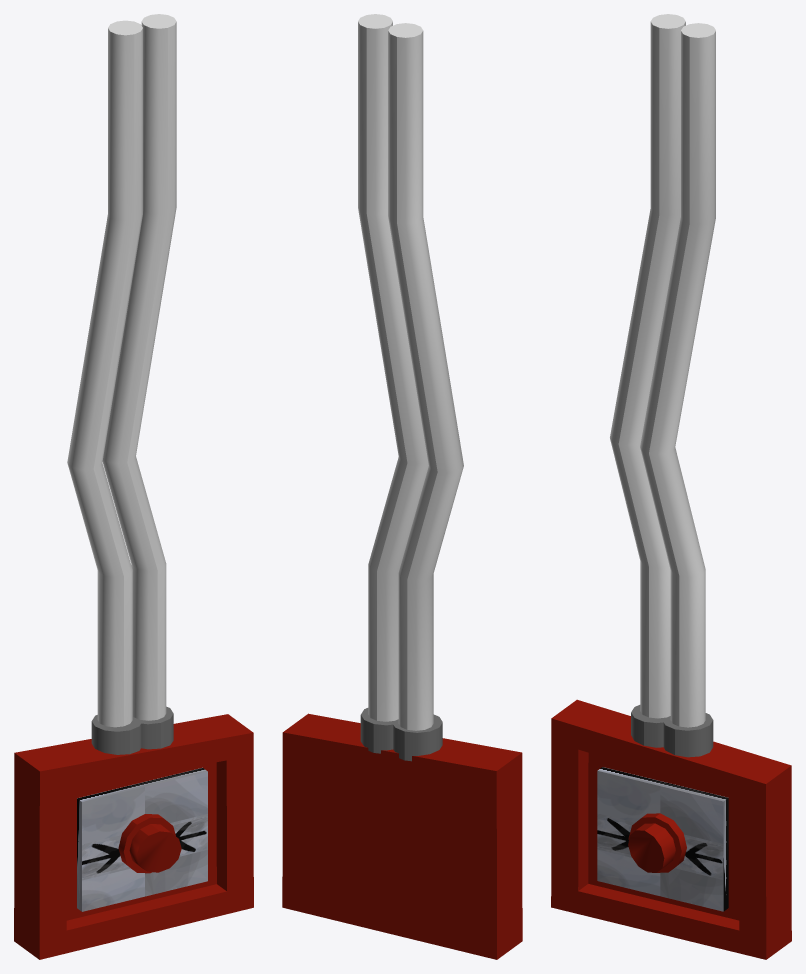
Rendered from Pulsador.fbx.
3 renders of one model, left to right at view 1: azimuth 30°, elevation 25°; view 2: azimuth 150°, elevation 25°; view 3: azimuth 330°, elevation 25°, orthographic.
Parts seen in each view (by area): view 1: Cube.018; view 2: Cube.018; view 3: Cube.018.
Part boxes in pixels (box(x1,y1,x2,y2)): Cube.018: box(14, 14, 253, 959); Cube.018: box(282, 14, 522, 959); Cube.018: box(551, 14, 791, 959).
Size of the model in its own units: 152 by 609 by 50.97.
Materials: 4 (1 with a texture image).
